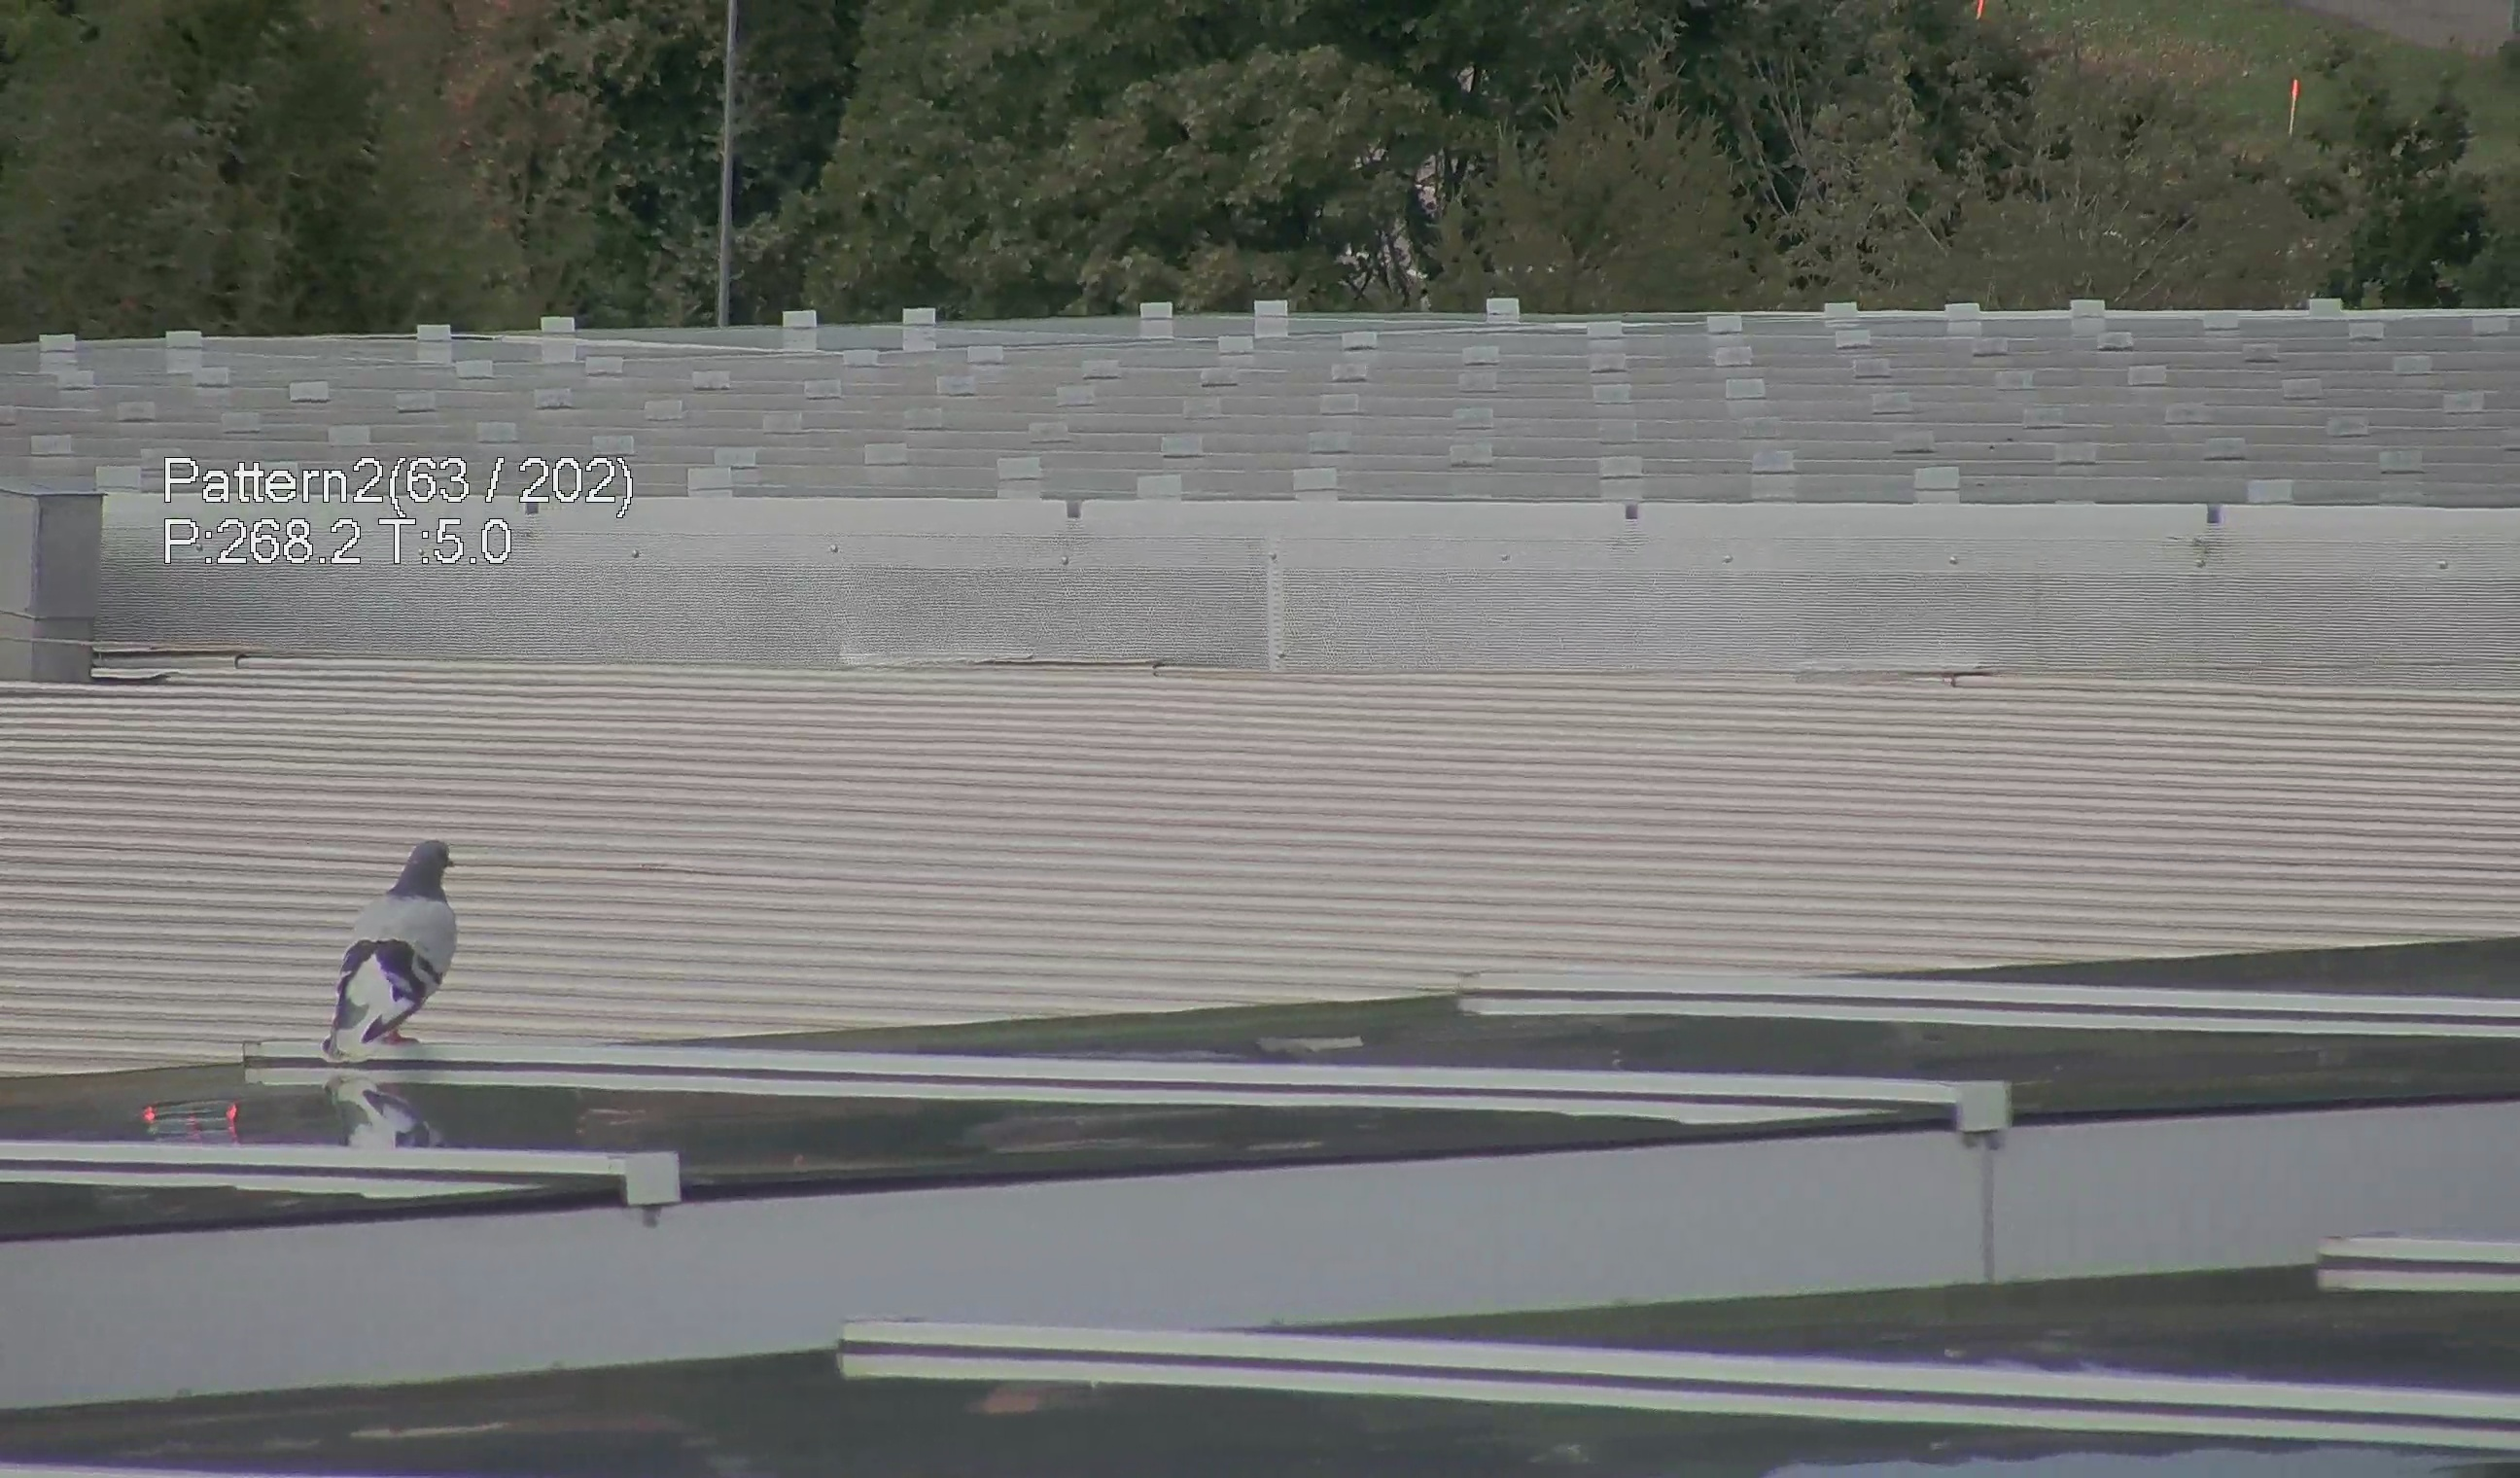Pigeon: (315, 834, 457, 1066)
